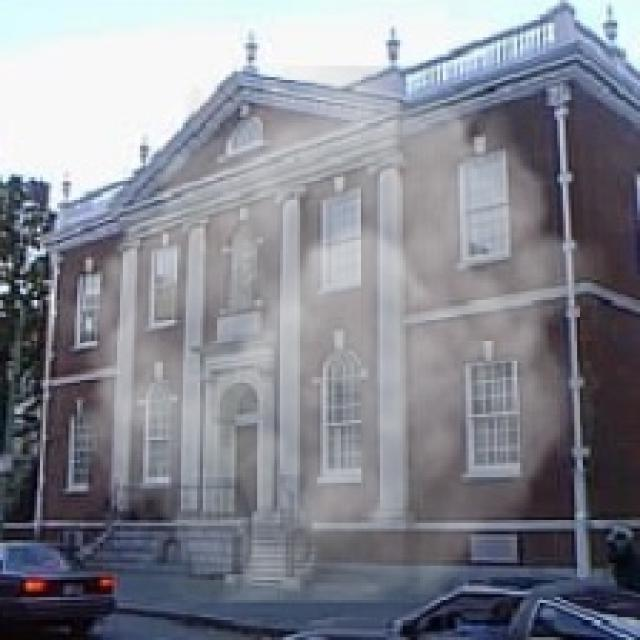smoke: (43, 66, 611, 603)
